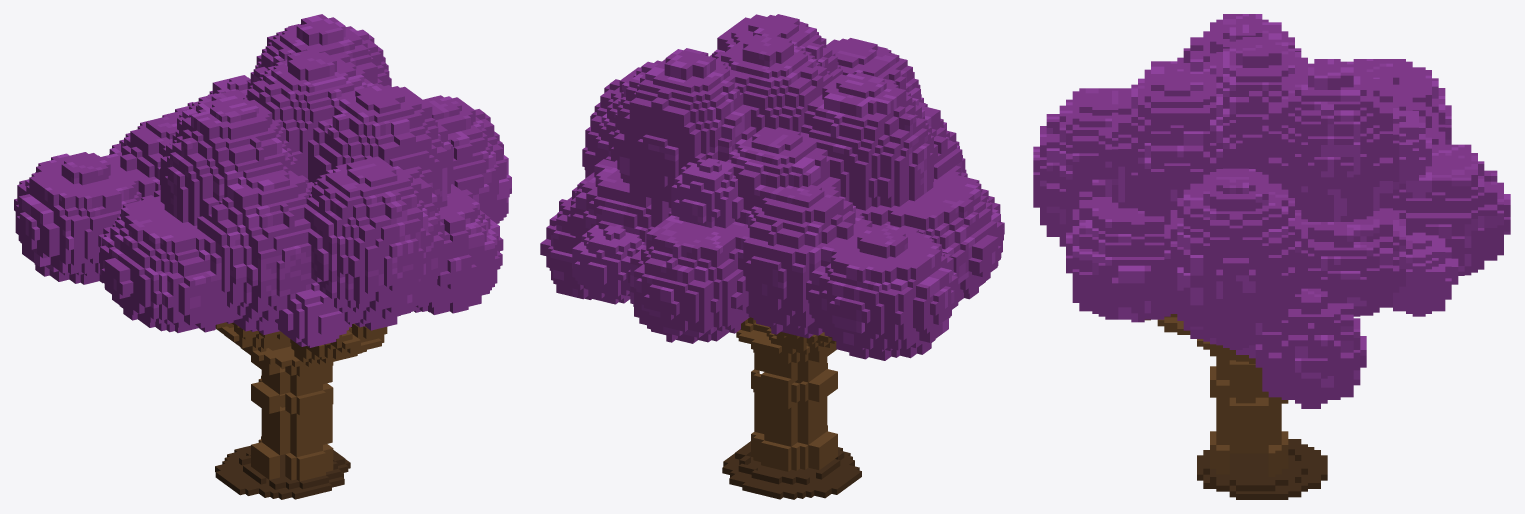
Rendered from 1_0 ipe.obj.
The picture shows the model from 3 angles, left to right: view 1: azimuth 30°, elevation 25°; view 2: azimuth 150°, elevation 25°; view 3: azimuth 270°, elevation 25°; orthographic projection. The views are drawn at different scales.
Size of the model in its own units: 7.8 by 7.4 by 7.3.
1 material, 1 textured.
